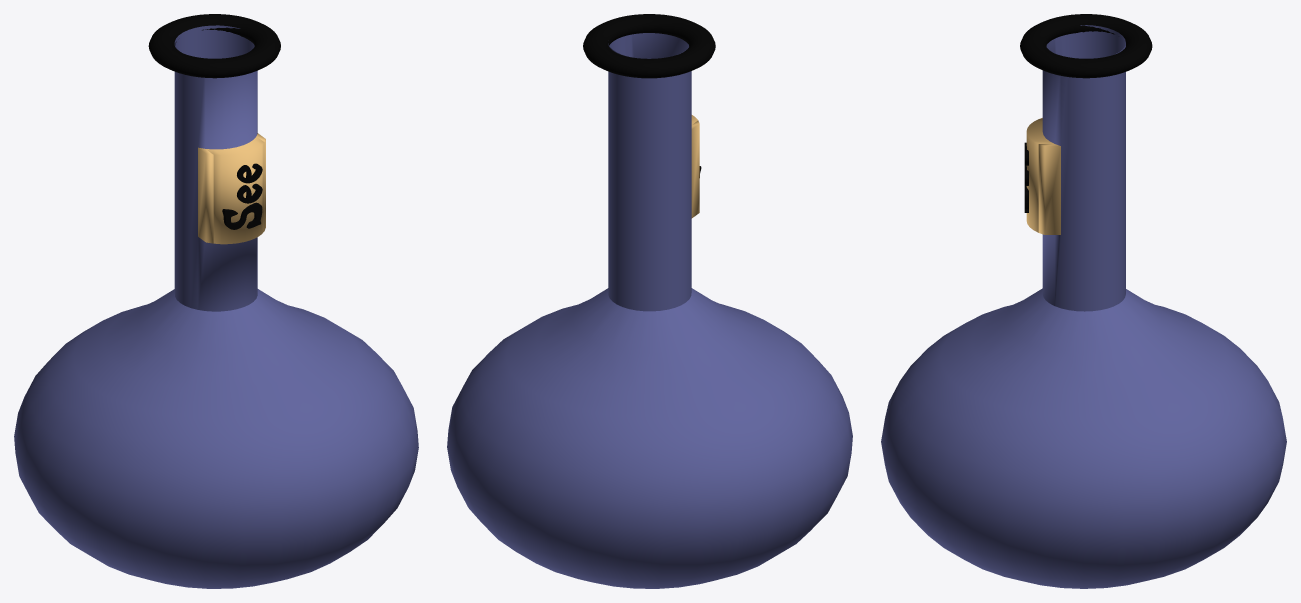
File: vision_potion.fbx
The picture shows the model from 3 angles, left to right: view 1: azimuth 30°, elevation 25°; view 2: azimuth 150°, elevation 25°; view 3: azimuth 270°, elevation 25°; orthographic projection.
Parts seen in each view (by area): view 1: Vision Potion; view 2: Vision Potion; view 3: Vision Potion.
Part boxes in pixels (x1=…): Vision Potion: x1=14, y1=14, x2=418, y2=588; Vision Potion: x1=447, y1=14, x2=852, y2=588; Vision Potion: x1=881, y1=14, x2=1286, y2=588.
Size of the model in its own units: 528 by 751 by 528.
